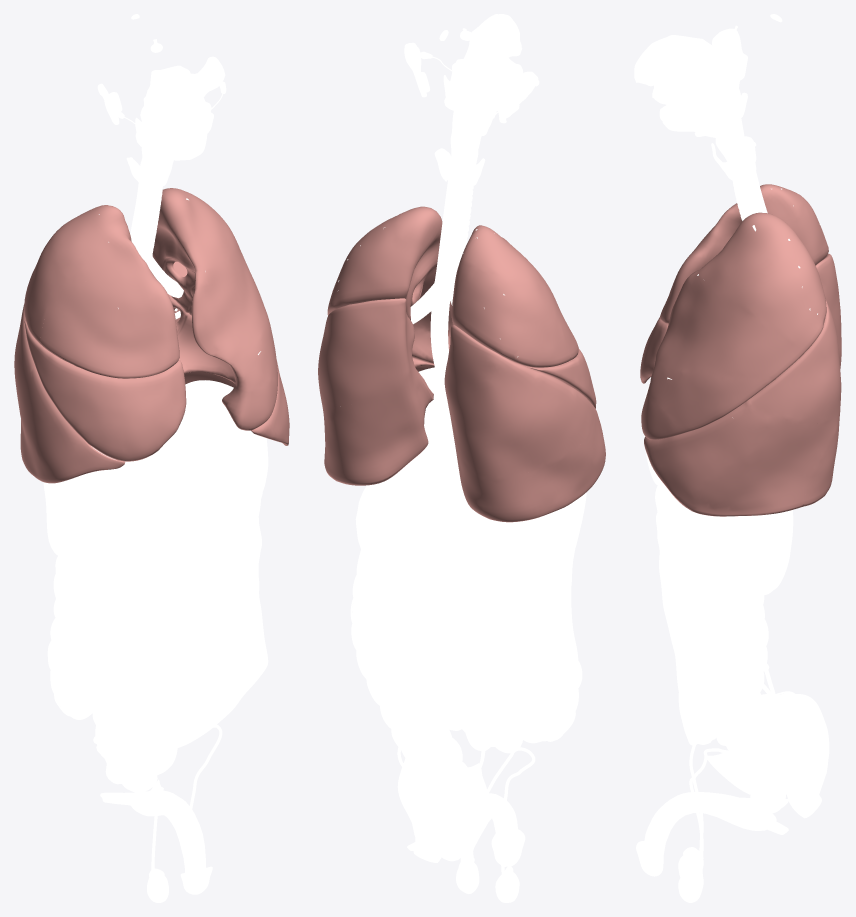
The model's file is visceres_seuls.glb.
The picture shows the model from 3 angles, left to right: view 1: azimuth 30°, elevation 25°; view 2: azimuth 150°, elevation 25°; view 3: azimuth 270°, elevation 25°; orthographic projection. The views are drawn at different scales.
Parts seen in each view (by area): view 1: Greater omentum, Superior lobe of right lung, Liver, Superior lobe of left lung, Middle lobe of right lung, Inferior lobe of right lung, Ascending colon, Inferior lobe of left lung, Corpus cavernosum of penis, Stomach, Gingiva, Mucosa of nasal cavity (+8 smaller); view 2: Inferior lobe of right lung, Inferior lobe of left lung, Jejunum, Superior lobe of right lung, Superior lobe of left lung, Ascending colon, Descending colon, Sigmoid colon, Liver, Kidney.l, Oesophagus, Kidney.r (+24 smaller); view 3: Superior lobe of left lung, Inferior lobe of left lung, Greater omentum, Descending colon, Superior lobe of right lung, Sigmoid colon, Corpus cavernosum of penis, Mucosa of nasal cavity, Kidney.l, Urinary bladder, Gingiva, Mesocolic taenia (+18 smaller).
Part boxes in pixels (left/top/right/bottom): Greater omentum: left=64, top=495, right=268, bottom=750; Superior lobe of right lung: left=24, top=205, right=179, bottom=378; Liver: left=43, top=380, right=260, bottom=558; Superior lobe of left lung: left=152, top=188, right=277, bottom=430; Middle lobe of right lung: left=24, top=320, right=186, bottom=461; Inferior lobe of right lung: left=14, top=304, right=125, bottom=483; Ascending colon: left=47, top=556, right=96, bottom=719; Inferior lobe of left lung: left=168, top=261, right=289, bottom=445; Corpus cavernosum of penis: left=100, top=779, right=205, bottom=872; Stomach: left=169, top=436, right=268, bottom=534; Gingiva: left=135, top=101, right=211, bottom=160; Mucosa of nasal cavity: left=158, top=65, right=209, bottom=128; Inferior lobe of right lung: left=444, top=325, right=605, bottom=522; Inferior lobe of left lung: left=318, top=298, right=434, bottom=485; Jejunum: left=389, top=529, right=541, bottom=753; Superior lobe of right lung: left=451, top=225, right=578, bottom=367; Superior lobe of left lung: left=327, top=206, right=452, bottom=363; Ascending colon: left=516, top=566, right=582, bottom=741; Descending colon: left=352, top=550, right=462, bottom=778; Sigmoid colon: left=397, top=730, right=462, bottom=862; Liver: left=418, top=367, right=586, bottom=575; Kidney.l: left=355, top=483, right=416, bottom=576; Oesophagus: left=430, top=165, right=467, bottom=441; Kidney.r: left=484, top=524, right=533, bottom=618; Superior lobe of left lung: left=641, top=212, right=826, bottom=439; Inferior lobe of left lung: left=644, top=299, right=841, bottom=516; Greater omentum: left=656, top=512, right=725, bottom=745; Descending colon: left=713, top=532, right=794, bottom=757; Superior lobe of right lung: left=660, top=184, right=828, bottom=323; Sigmoid colon: left=785, top=694, right=829, bottom=818; Corpus cavernosum of penis: left=643, top=792, right=788, bottom=857; Mucosa of nasal cavity: left=634, top=35, right=703, bottom=87; Kidney.l: left=752, top=510, right=793, bottom=595; Urinary bladder: left=707, top=750, right=795, bottom=796; Gingiva: left=652, top=82, right=715, bottom=131; Mesocolic taenia: left=718, top=538, right=792, bottom=742.
Bounding box in the file's own units: 0.261 × 0.8931 × 0.1913.
